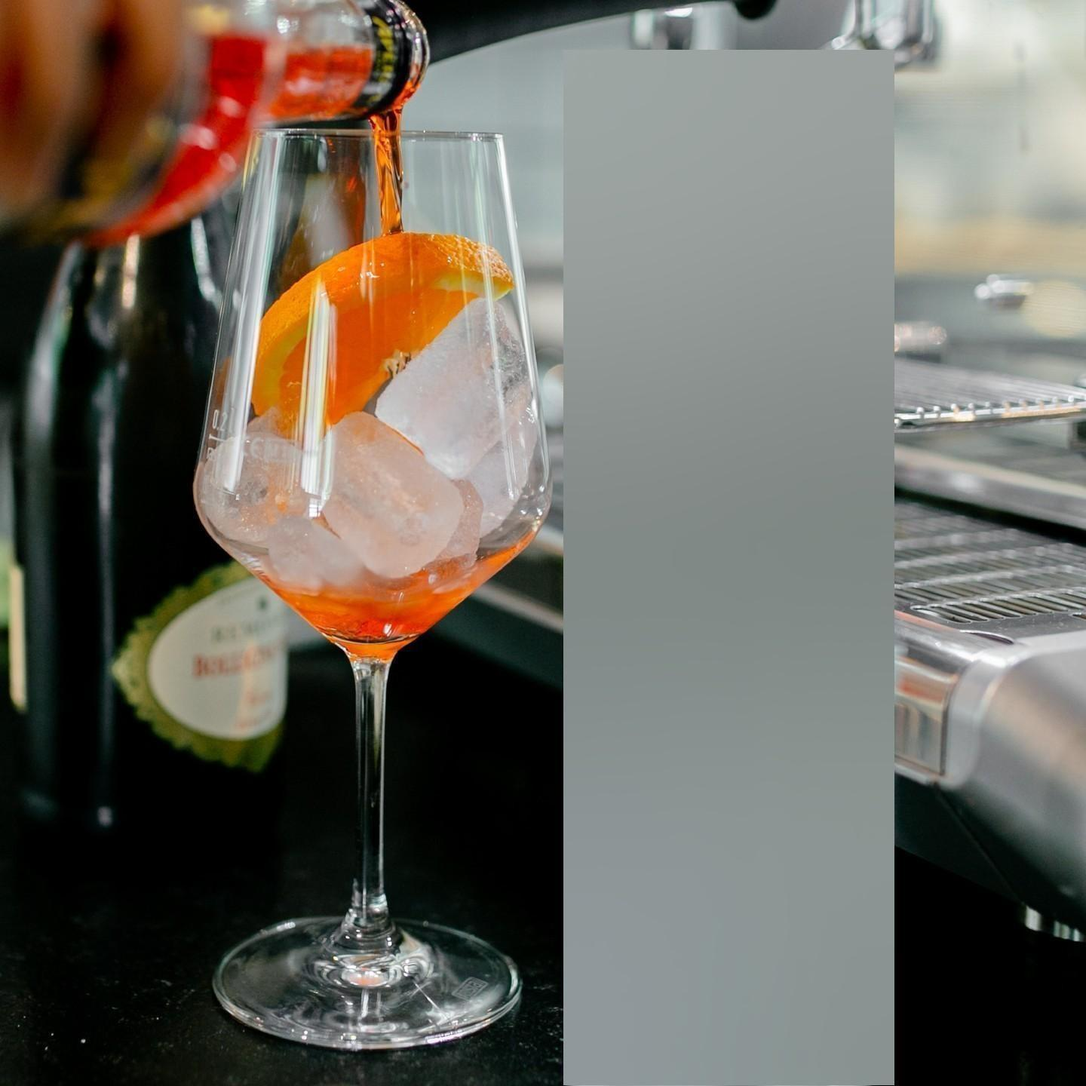glass-wine: (195, 109, 548, 1060)
